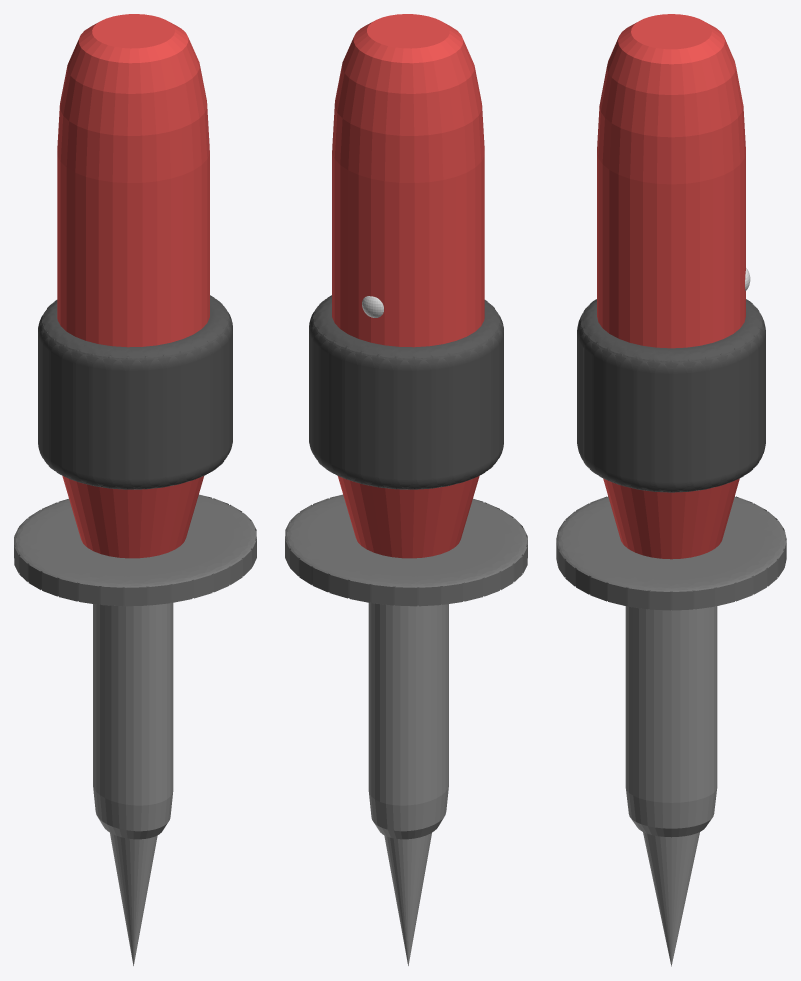
File: Solder.fbx
The picture shows the model from 3 angles, left to right: view 1: azimuth 30°, elevation 25°; view 2: azimuth 150°, elevation 25°; view 3: azimuth 270°, elevation 25°; orthographic projection.
Parts seen in each view (by area): view 1: Cone; view 2: Cone; view 3: Cone.
Part boxes in pixels (x1,y1,x2,y2): Cone: (14, 14, 256, 965); Cone: (285, 14, 527, 965); Cone: (556, 14, 786, 966).
Bounding box in the file's own units: 134 × 558 × 125.
